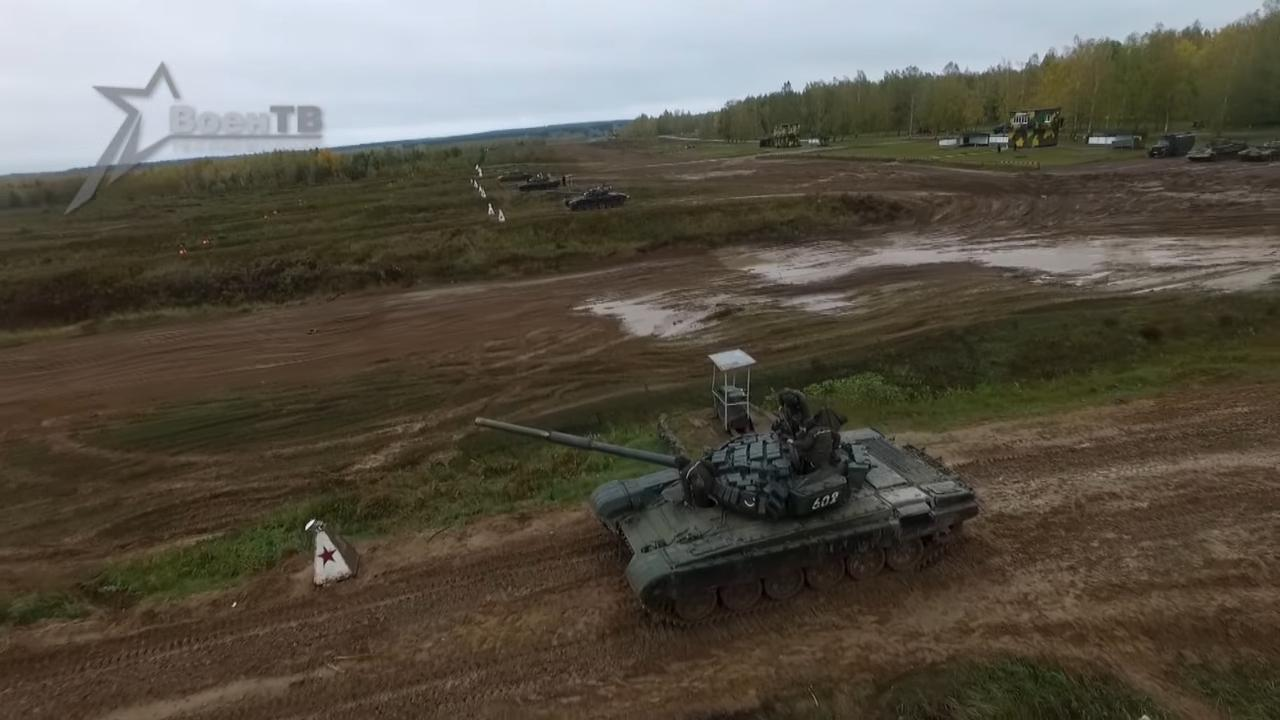tank: (474, 390, 980, 629), (546, 185, 631, 210)
